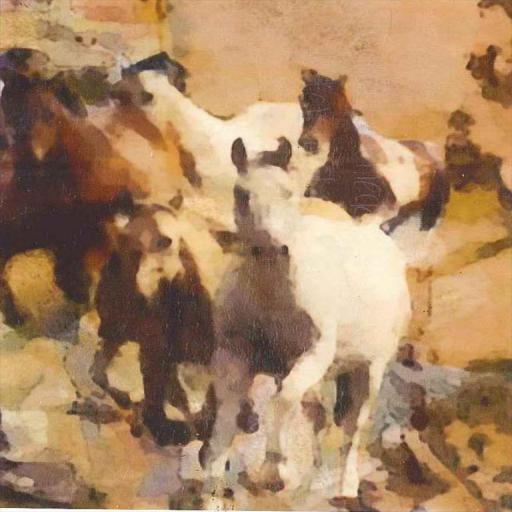horse: (207, 136, 414, 510), (94, 184, 230, 472), (298, 68, 452, 266)
